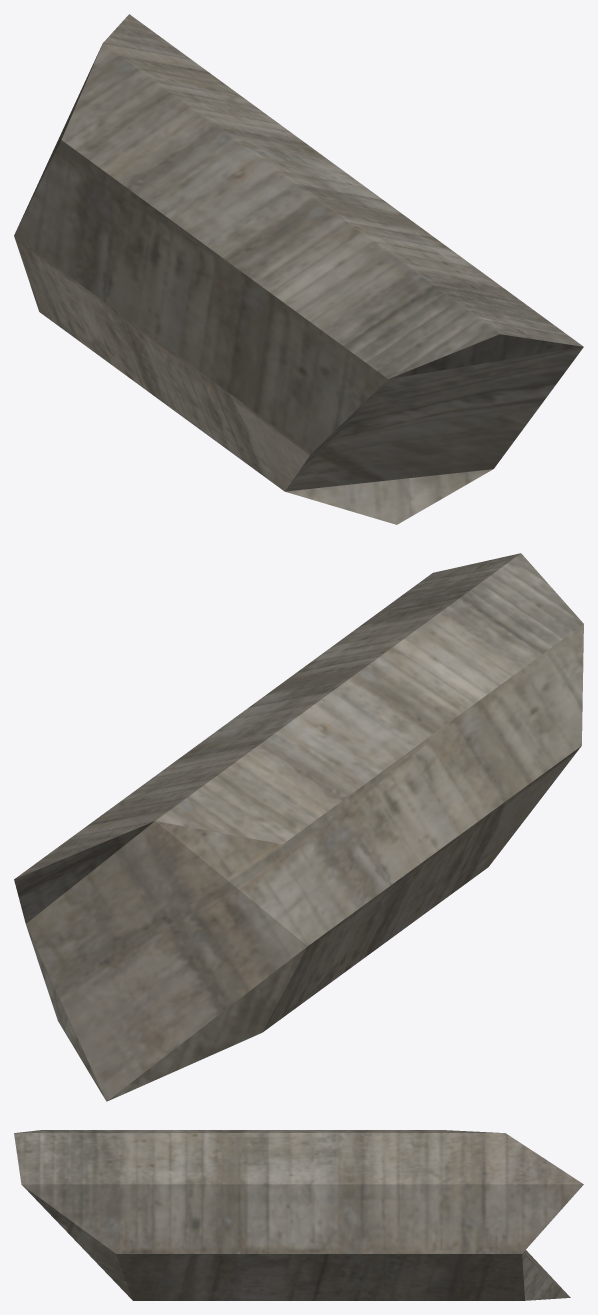
Rendered from concrete part.fbx.
The picture shows the model from 3 angles, top to bottom: view 1: azimuth 30°, elevation 25°; view 2: azimuth 150°, elevation 25°; view 3: azimuth 270°, elevation 25°; orthographic projection. The views are drawn at different scales.
Parts seen in each view (by area): view 1: Cube.640; view 2: Cube.640; view 3: Cube.640.
Boxes of the visible parts, x1,y1,x2,y2 form: Cube.640: (14,14,583,524); Cube.640: (14,553,583,1101); Cube.640: (14,1130,583,1300).
Bounding box in the file's own units: 120 × 120 × 376.
